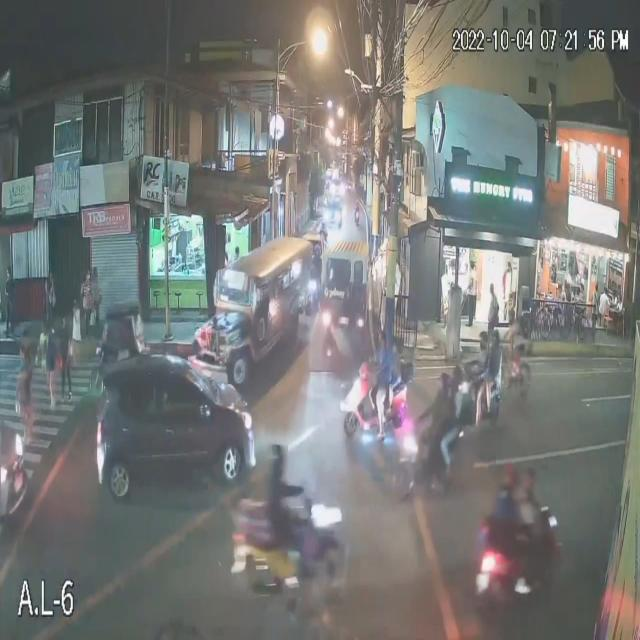Full-Faced: (267, 441, 291, 485), (498, 462, 522, 502), (516, 464, 535, 502), (447, 363, 460, 395), (436, 372, 448, 401)
Half-Faced: (375, 328, 388, 351)
Not-Wearing-Helmet: (488, 326, 500, 349), (478, 328, 489, 344)
